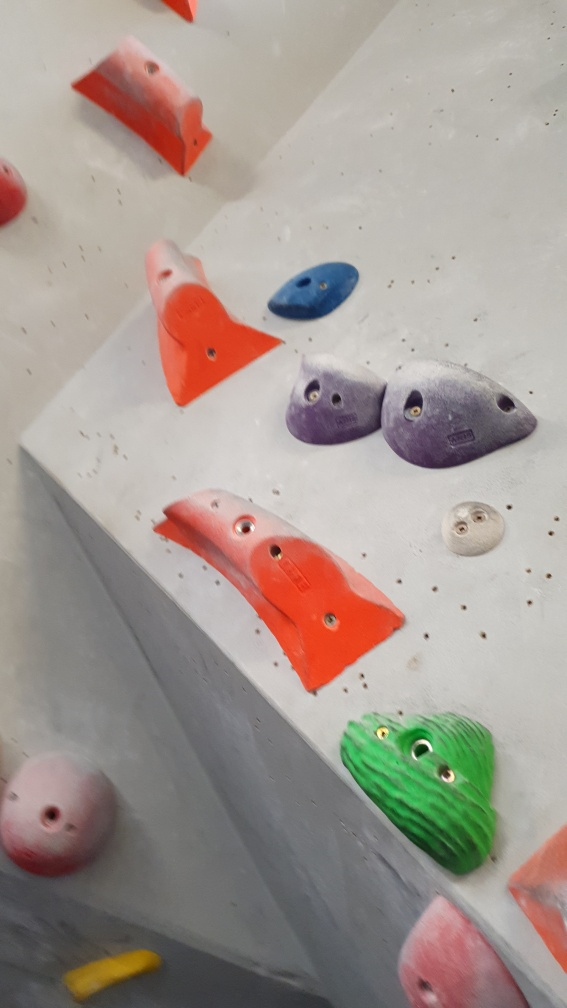Crimp: (268, 262, 369, 323)
Jug: (340, 707, 511, 880), (375, 352, 543, 470), (284, 354, 395, 448)
Pinch: (153, 487, 411, 694), (138, 238, 286, 411), (69, 37, 220, 178)
Sloper: (1, 749, 127, 874)
